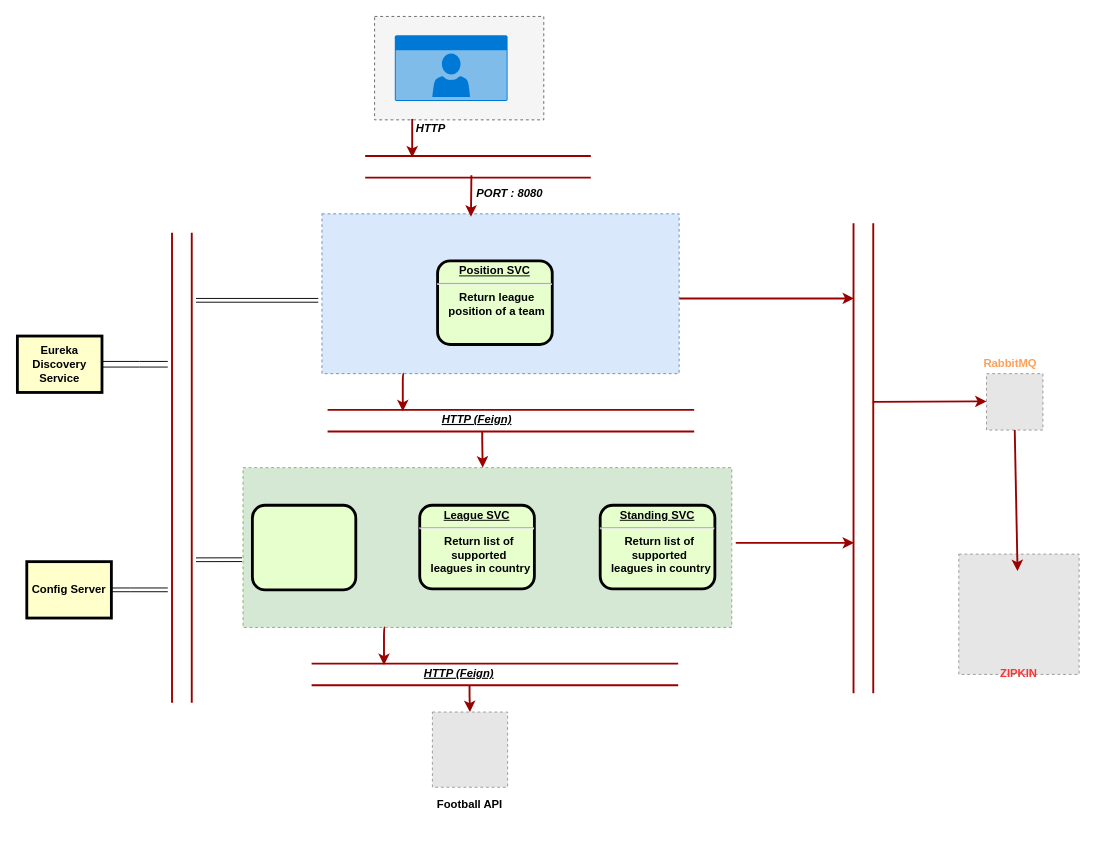
The diagram is 1096 pixels wide and 841 high, and some of its shapes have lost their labels. Grey dashed boxes stand in for pictures. Here are the shapes that lost their labels. From the top down, the centre of each, then its label:
At point 450,68: "User".
At point 304,547: "Country SVC Return list of countries".
